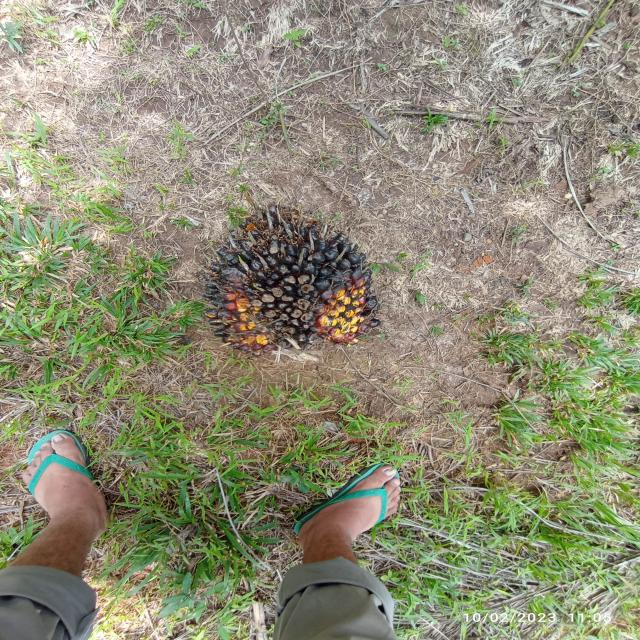fraksi 00: (180, 186, 413, 378)
